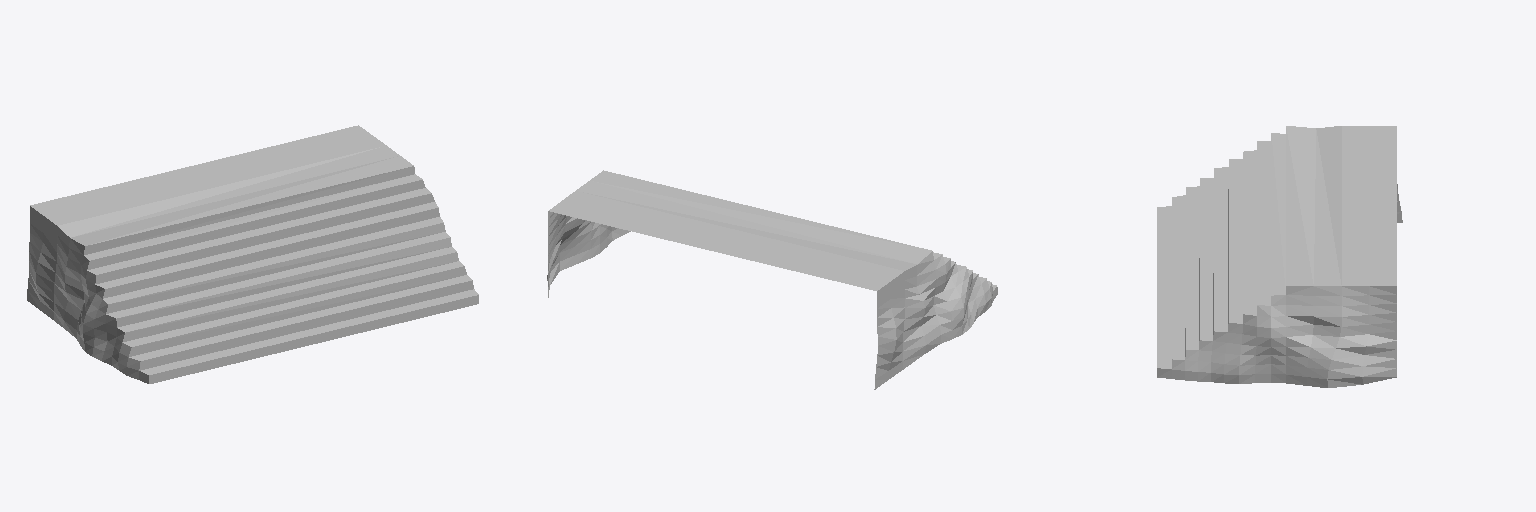
File: OutStairs.obj
3 renders of one model, left to right at view 1: azimuth 30°, elevation 25°; view 2: azimuth 150°, elevation 25°; view 3: azimuth 270°, elevation 25°, orthographic.
Visible parts, largest first — view 1: pCube213; view 2: pCube213; view 3: pCube213.
Part boxes in pixels (left/top/right/bottom): pCube213: left=27, top=125, right=478, bottom=383; pCube213: left=547, top=170, right=997, bottom=389; pCube213: left=1157, top=126, right=1402, bottom=387.
Bounding box in the file's own units: 2235 × 561 × 1286.